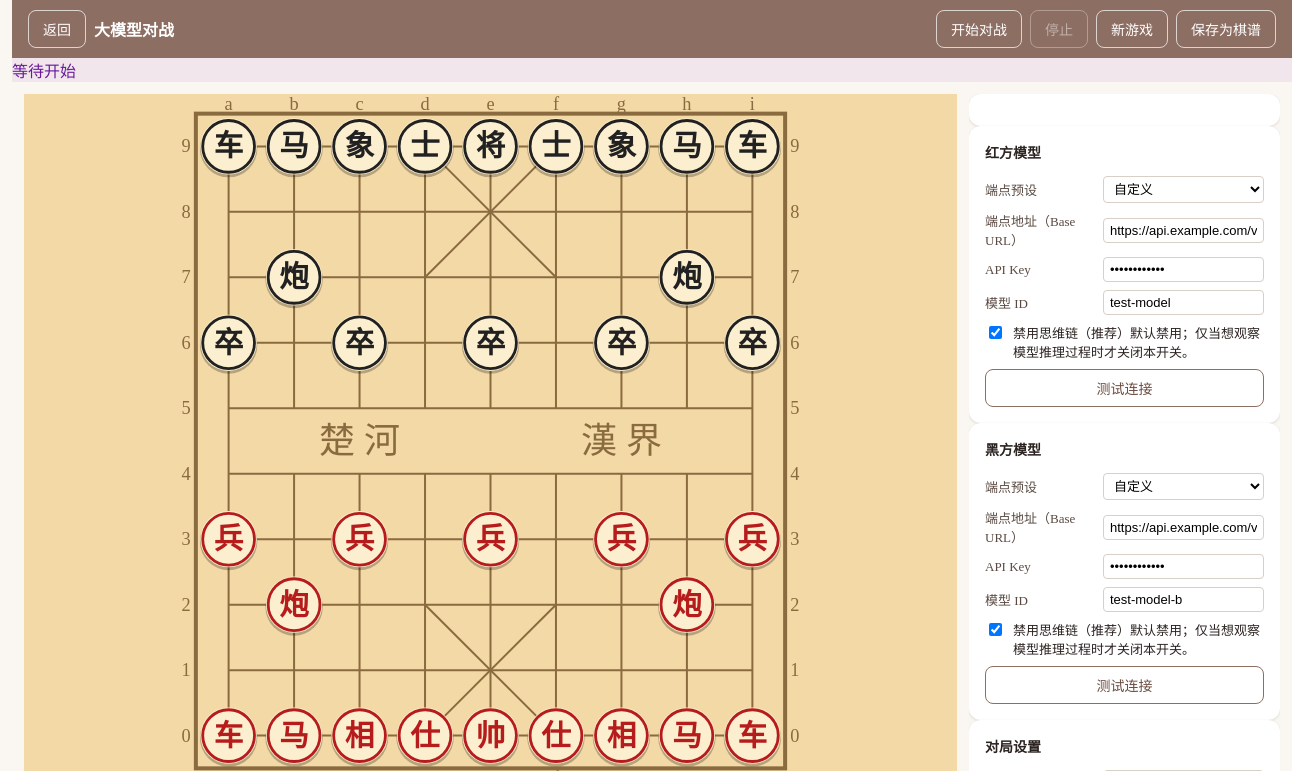
Test: 大模型对战页（08 §3.4 / 05 §8.1） › 03 失败判负：resign 策略下一方失败 → 显式判负终止（防错 #7）
Step 1. Click the button with test id "llm-loop-toggle" → point(979, 29), box [936,10,1022,48]
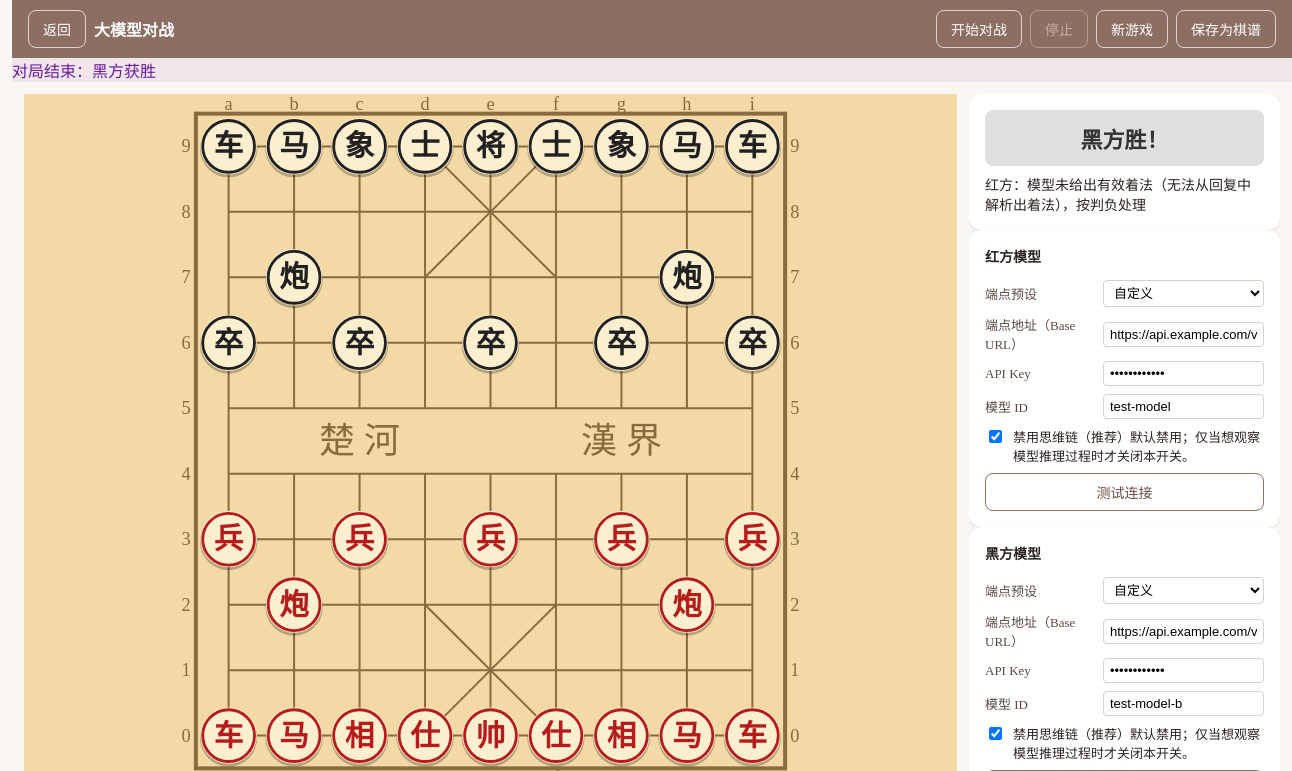
Now the text "黑方胜！" is shown, box [985,110,1264,166]
Now the text with test id "llm-red-note" shows "按判负处理", box [985,178,1251,213]
